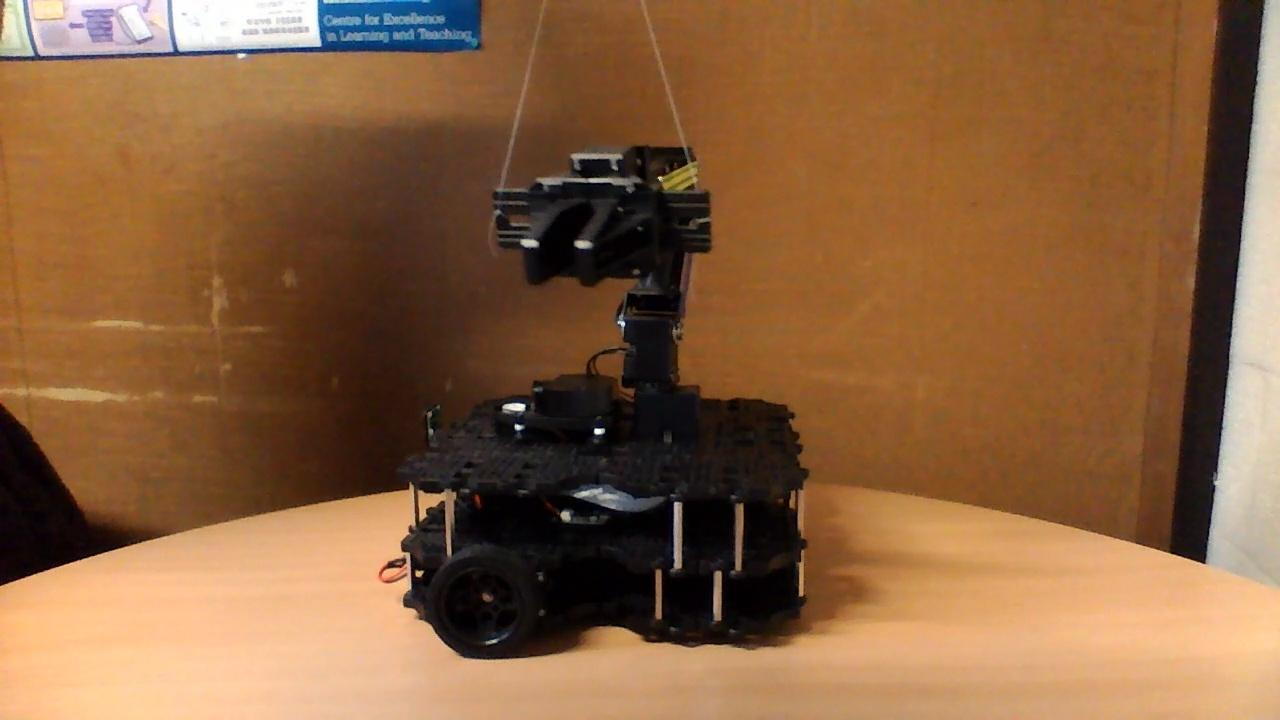Arm: (617, 247, 697, 341)
Hand: (490, 143, 713, 290)
Wrist: (651, 145, 705, 198)
base: (376, 369, 817, 663)
